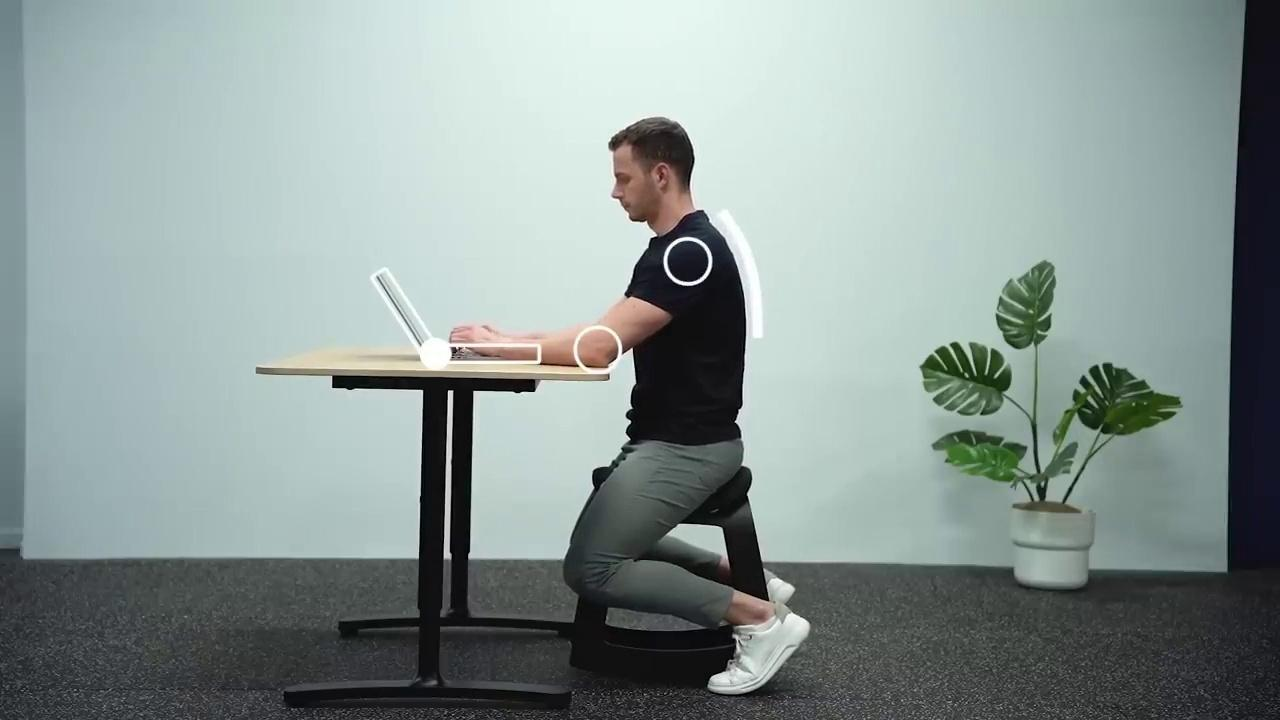GoodPosture: (450, 296, 672, 369), (611, 130, 697, 234)
